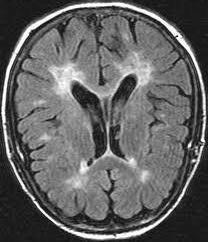Normal_Brain: (2, 1, 208, 242)
